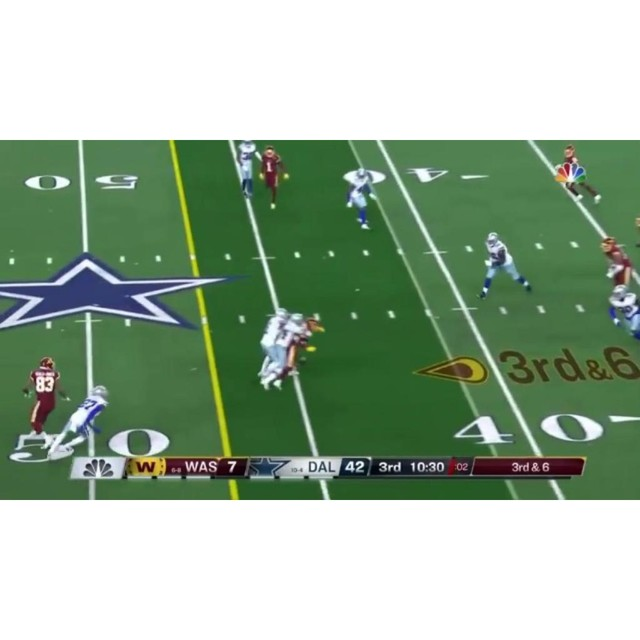american-football-player: (48, 384, 110, 461), (21, 357, 68, 447), (479, 231, 532, 300), (255, 308, 291, 386), (555, 147, 602, 204), (343, 168, 378, 230), (599, 235, 637, 291), (258, 146, 289, 209), (236, 141, 261, 201)
